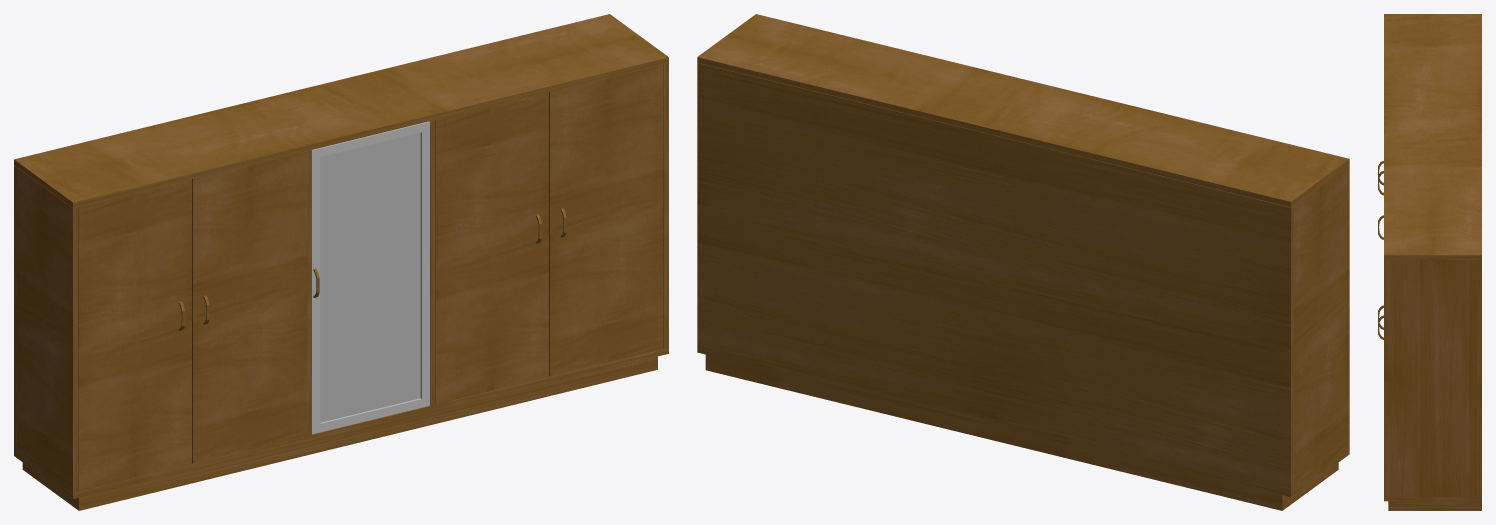
Rendered from sweethome3d-scopia-bookcase-44.glb.
The picture shows the model from 3 angles, left to right: view 1: azimuth 30°, elevation 25°; view 2: azimuth 150°, elevation 25°; view 3: azimuth 270°, elevation 25°; orthographic projection. The views are drawn at different scales.
Parts seen in each view (by area): view 1: oficina_armario_Cube.000, glass_Cube; view 2: oficina_armario_Cube.000; view 3: oficina_armario_Cube.000, Handles_oficina_armario_Cube.014.
Part boxes in pixels (x1=…): oficina_armario_Cube.000: x1=14, y1=14, x2=668, y2=510; glass_Cube: x1=320, y1=132, x2=420, y2=422; oficina_armario_Cube.000: x1=697, y1=14, x2=1349, y2=510; oficina_armario_Cube.000: x1=1384, y1=14, x2=1481, y2=510; Handles_oficina_armario_Cube.014: x1=1378, y1=161, x2=1383, y2=339.
Bounding box in the file's own units: 2.99 × 1.5 × 0.5437.
Materials: 5 (2 with a texture image).
